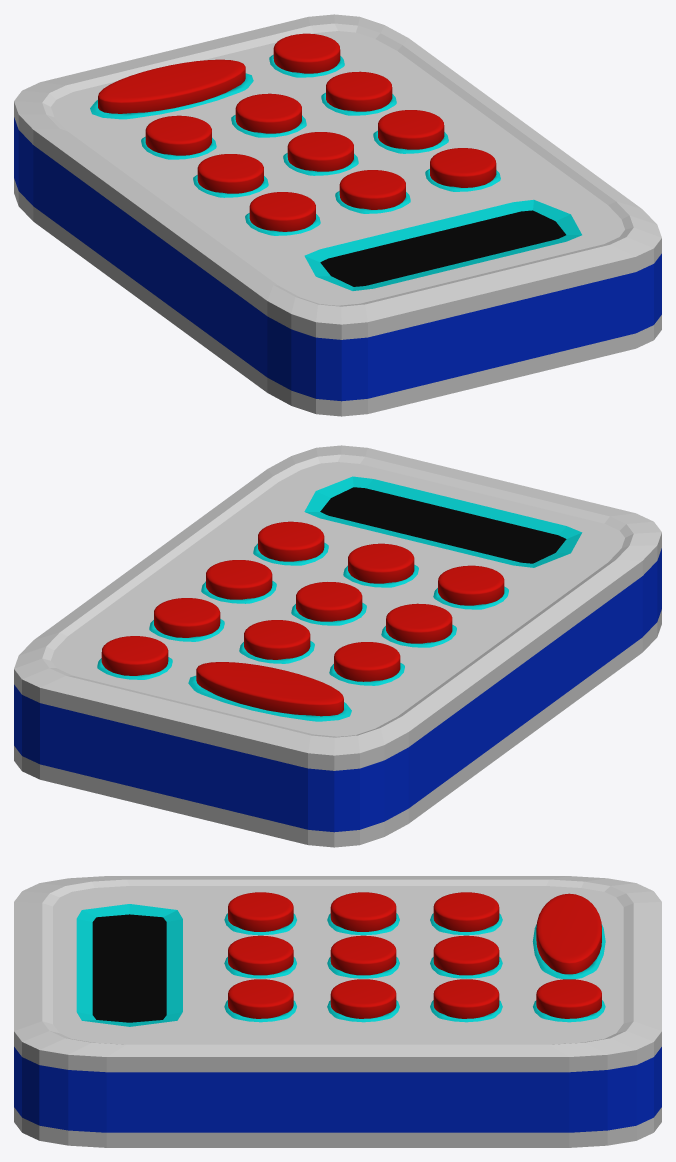
File: Numpad.fbx
3 renders of one model, top to bottom at view 1: azimuth 30°, elevation 25°; view 2: azimuth 150°, elevation 25°; view 3: azimuth 270°, elevation 25°, orthographic.
Parts seen in each view (by area): view 1: Numpad, Button_00_Enter, Button_00_00, Button_00_09, Button_00_08, Button_00_07, Button_00_06, Button_00_05, Button_00_03, Button_00_02, Button_00_01, Button_00_04 (+1 smaller); view 2: Numpad, Button_00_Enter, Button_00_00, Button_00_03, Button_00_01, Button_00_06, Button_00_09, Button_00_02, Button_00_05, Button_00_08, Button_00_07, Button_00_04 (+1 smaller); view 3: Numpad, Button_00_Enter, Button_00_05, Button_00_08, Button_00_09, Button_00_06, Button_00_07, Button_00_02, Button_00_04, Button_00_00, Button_00_01, Button_00_03 (+8 smaller).
Part boxes in pixels (left/top/right/bottom): Numpad: left=14, top=14, right=661, bottom=416; Button_00_Enter: left=98, top=59, right=245, bottom=113; Button_00_00: left=273, top=33, right=340, bottom=73; Button_00_09: left=145, top=115, right=211, bottom=155; Button_00_08: left=235, top=93, right=301, bottom=133; Button_00_07: left=326, top=71, right=392, bottom=111; Button_00_06: left=197, top=154, right=263, bottom=193; Button_00_05: left=287, top=132, right=353, bottom=171; Button_00_03: left=249, top=192, right=315, bottom=231; Button_00_02: left=339, top=170, right=405, bottom=209; Button_00_01: left=430, top=148, right=496, bottom=187; Button_00_04: left=378, top=110, right=444, bottom=149; Numpad: left=14, top=445, right=661, bottom=847; Button_00_Enter: left=196, top=662, right=343, bottom=716; Button_00_00: left=101, top=636, right=168, bottom=675; Button_00_03: left=438, top=565, right=504, bottom=605; Button_00_01: left=258, top=521, right=324, bottom=561; Button_00_06: left=386, top=603, right=452, bottom=643; Button_00_09: left=334, top=642, right=400, bottom=681; Button_00_02: left=348, top=543, right=414, bottom=583; Button_00_05: left=296, top=582, right=362, bottom=621; Button_00_08: left=244, top=620, right=310, bottom=659; Button_00_07: left=154, top=598, right=220, bottom=637; Button_00_04: left=206, top=560, right=272, bottom=599; Numpad: left=14, top=876, right=661, bottom=1147; Button_00_Enter: left=536, top=893, right=601, bottom=974; Button_00_05: left=330, top=935, right=396, bottom=975; Button_00_08: left=433, top=935, right=499, bottom=975; Button_00_09: left=433, top=892, right=499, bottom=931; Button_00_06: left=330, top=892, right=396, bottom=931; Button_00_07: left=433, top=979, right=499, bottom=1018; Button_00_02: left=228, top=935, right=293, bottom=975; Button_00_04: left=330, top=979, right=396, bottom=1018; Button_00_00: left=536, top=979, right=601, bottom=1018; Button_00_01: left=228, top=979, right=293, bottom=1018; Button_00_03: left=228, top=892, right=293, bottom=931.
Bounding box in the file's own units: 25 × 7.22 × 37.81.
